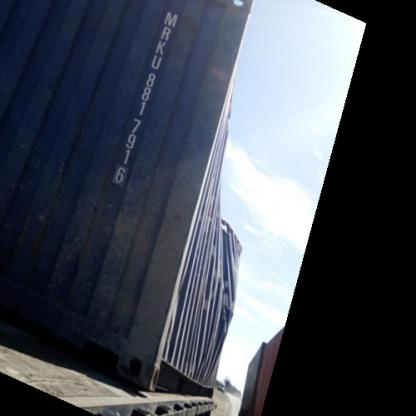Damage: (207, 203, 242, 375)
